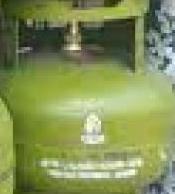cylinder: (1, 1, 175, 194)
